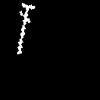double_crochet: (17, 3, 34, 53)
